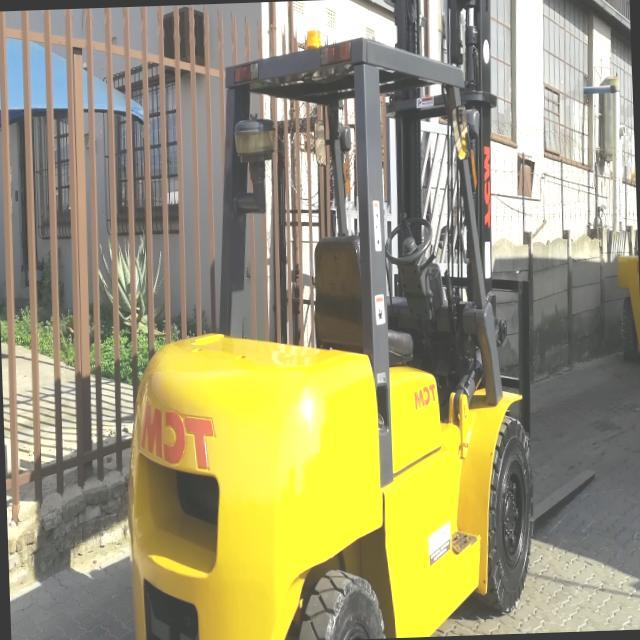forklift: (98, 0, 553, 640)
